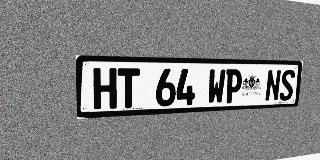4: (176, 69, 196, 106)
6: (156, 68, 177, 107)
H: (93, 68, 117, 109)
N: (264, 69, 282, 102)
P: (224, 69, 243, 103)
S: (279, 70, 295, 101)
T: (117, 68, 140, 108)
W: (207, 69, 226, 104)
